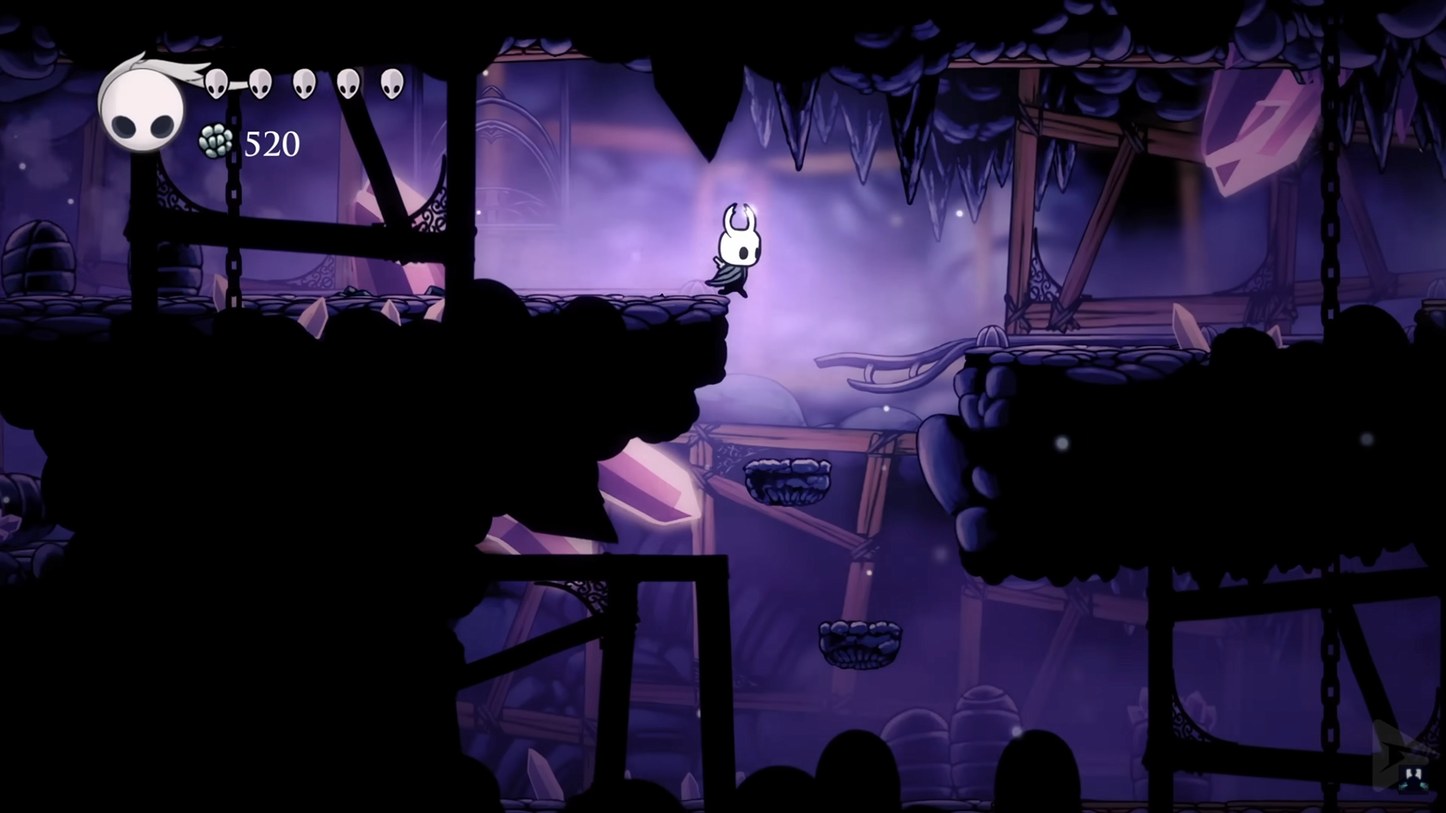HK: (702, 198, 767, 302)
